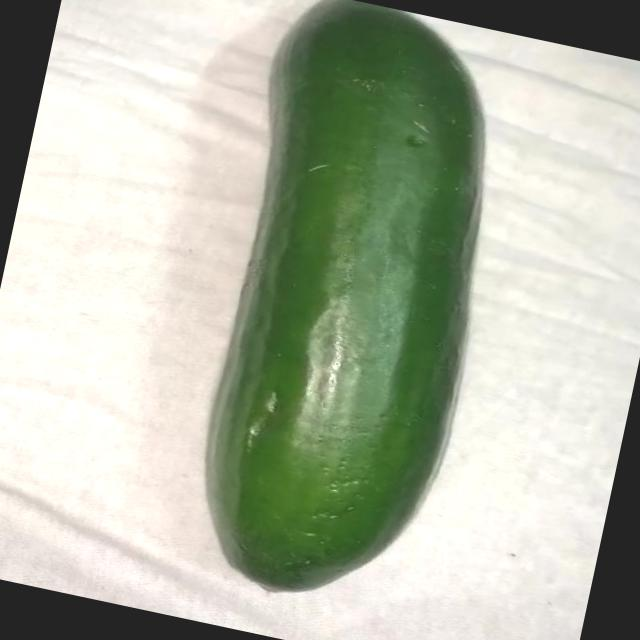Cucumber: (156, 0, 518, 626)
